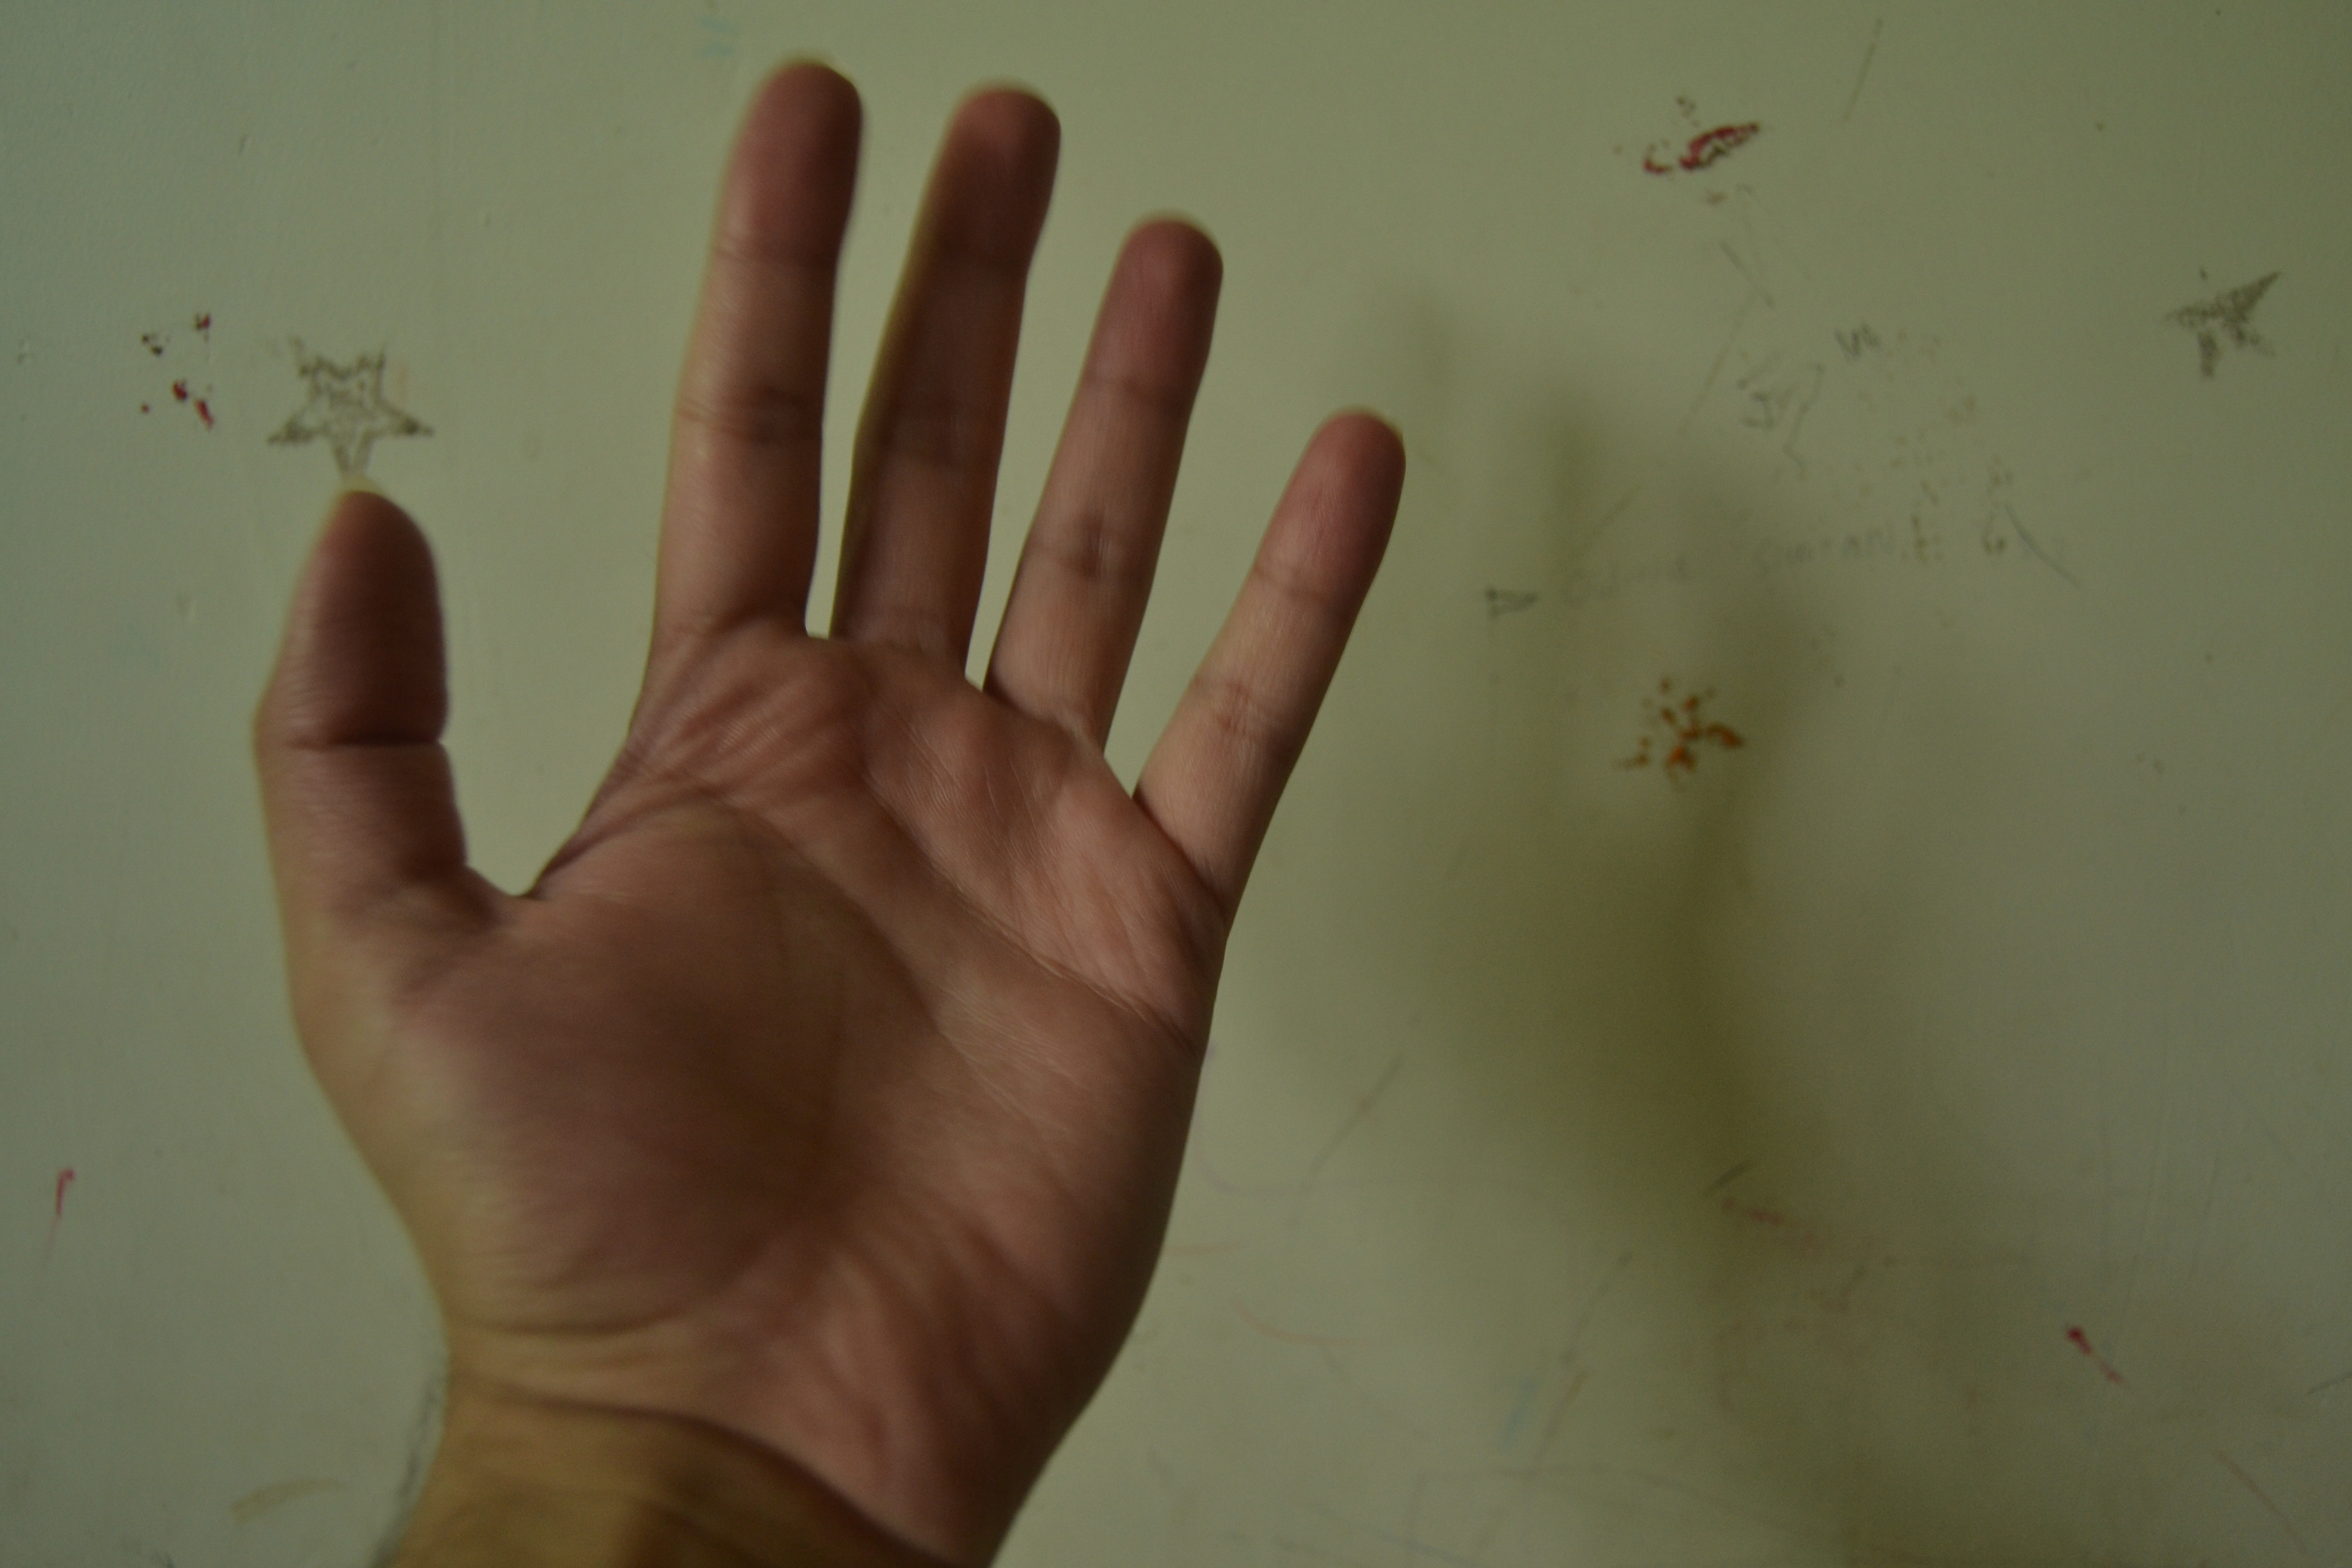move: (213, 51, 1421, 1447)
